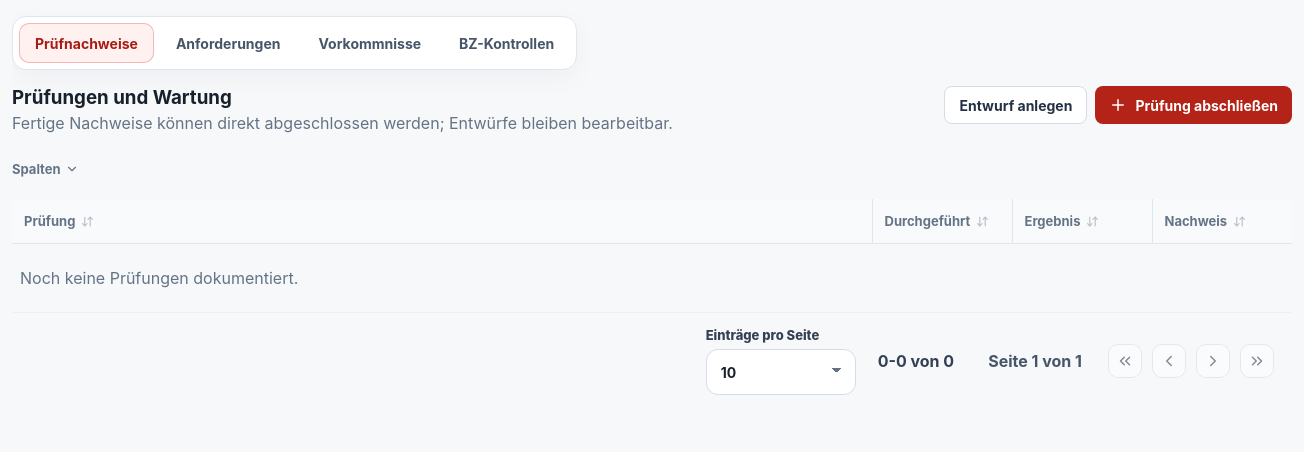
Test: separates inspections, requirements, incidents and BZ controls in the device record
This screenshot has width=1304, height=452.
Expected: the heading "Prüfungen und Wartung" is shown, x1=12 y1=86 x2=232 y2=109
Expected: the heading "Defekte und Vorkommnisse" is not shown
Step 1. Click the tab "Vorkommnisse" → [370, 43], box x1=302 y1=23 x2=437 y2=63
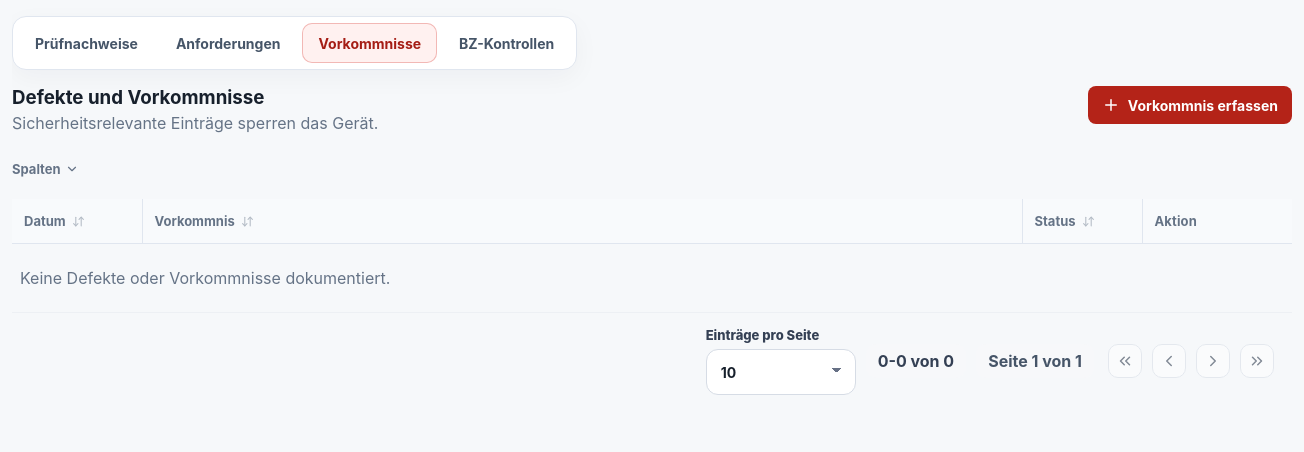
Expected: the heading "Defekte und Vorkommnisse" is shown, x1=12 y1=86 x2=264 y2=109
Expected: the heading "Prüfungen und Wartung" is gone
Step 2. Click the tab "BZ-Kontrollen" → [507, 43], box x1=443 y1=23 x2=570 y2=63
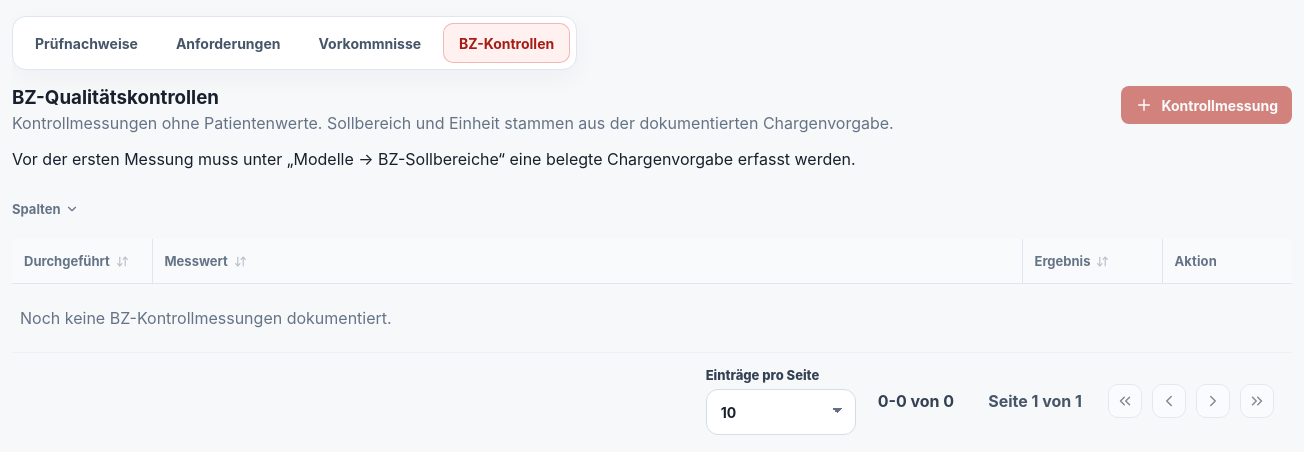
Expected: the heading "BZ-Qualitätskontrollen" is shown, x1=12 y1=86 x2=219 y2=109
Step 3. Click the tab "Anforderungen" → [228, 43], box x1=160 y1=23 x2=296 y2=63
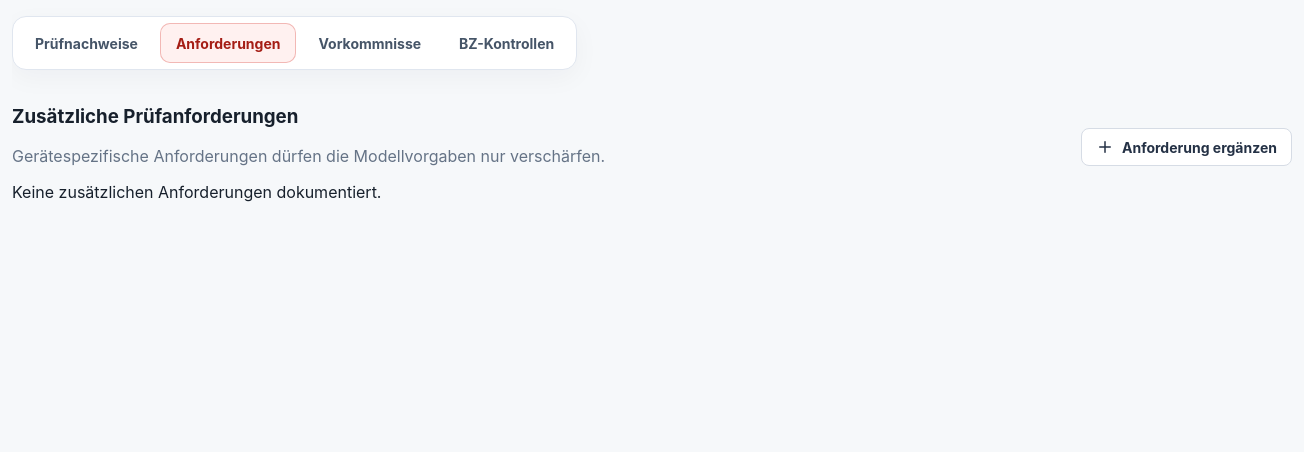
Expected: the heading "Zusätzliche Prüfanforderungen" is shown, x1=12 y1=105 x2=298 y2=128
